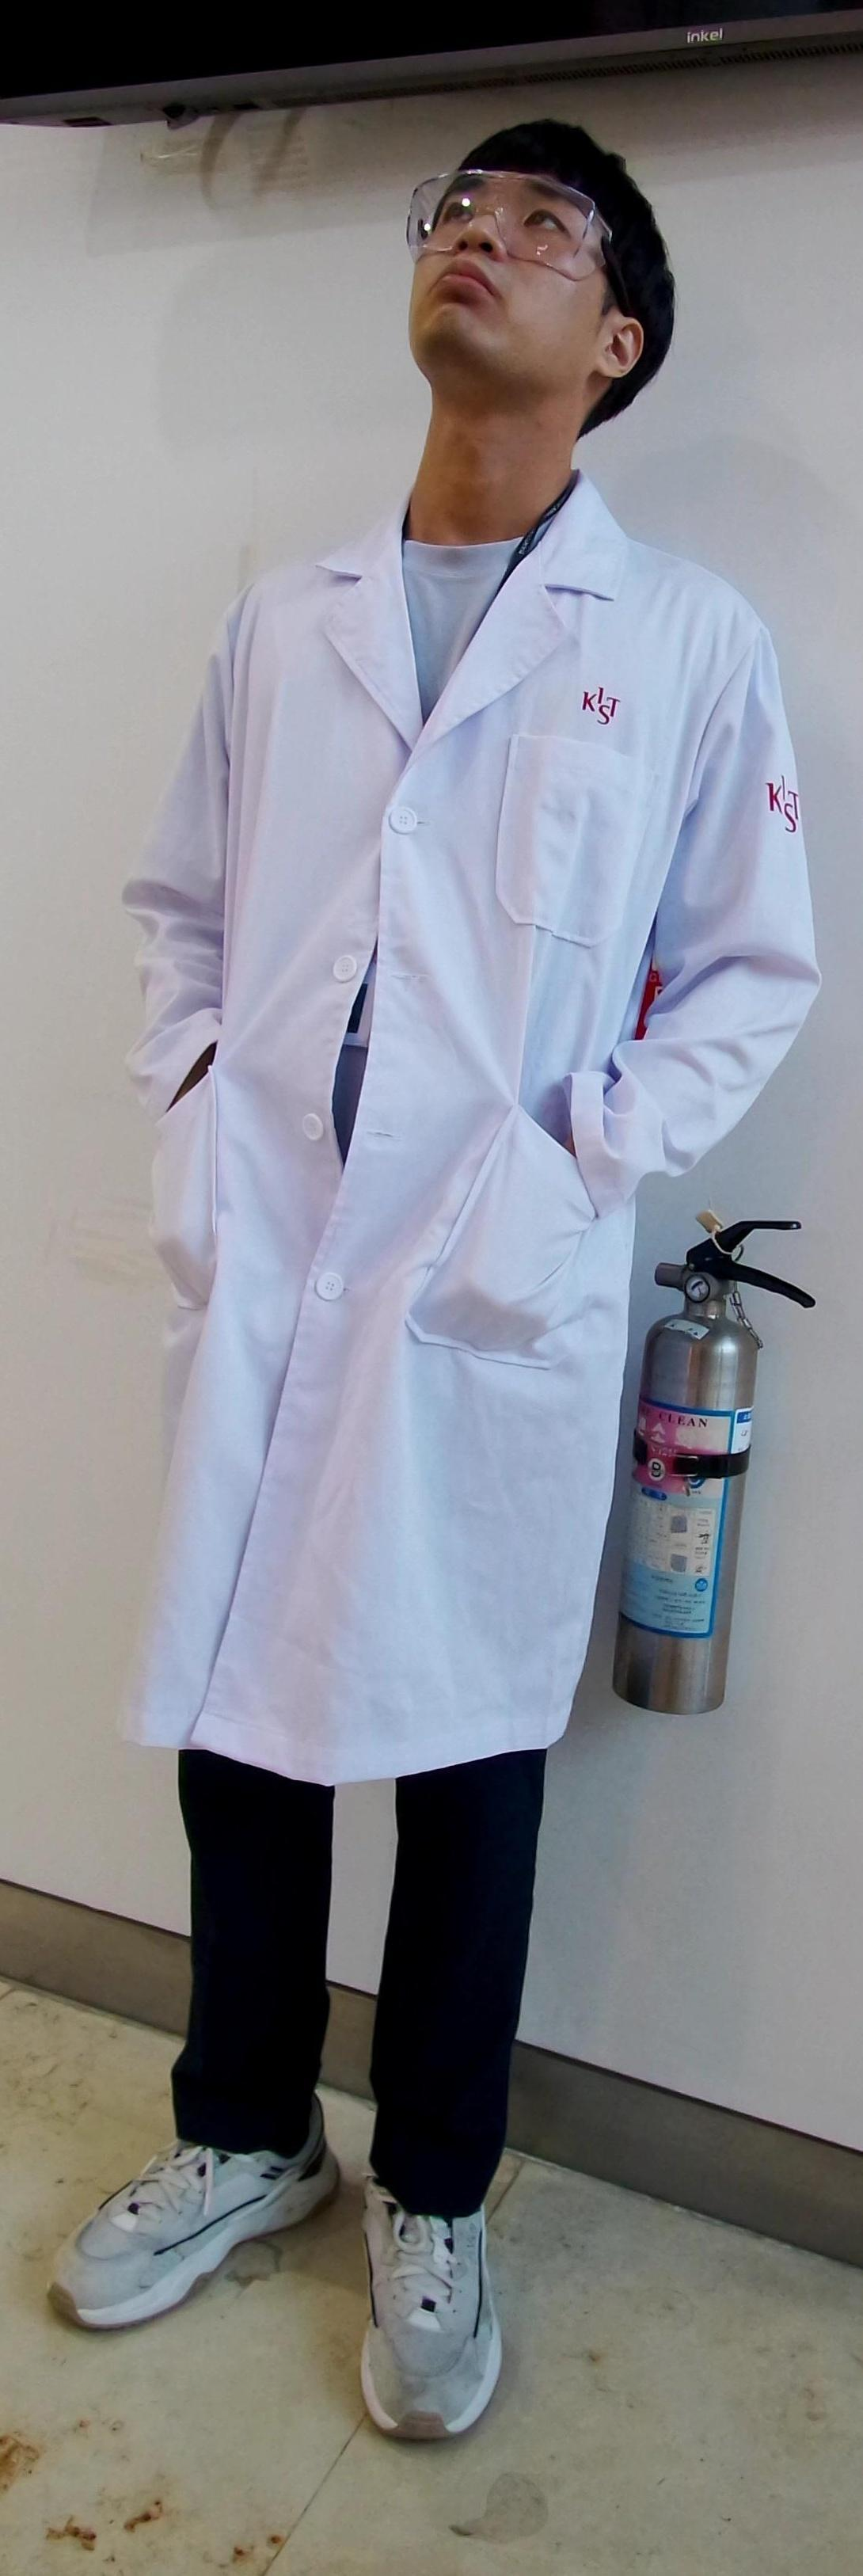lab_coat: (92, 514, 654, 1741), (582, 831, 615, 859)
